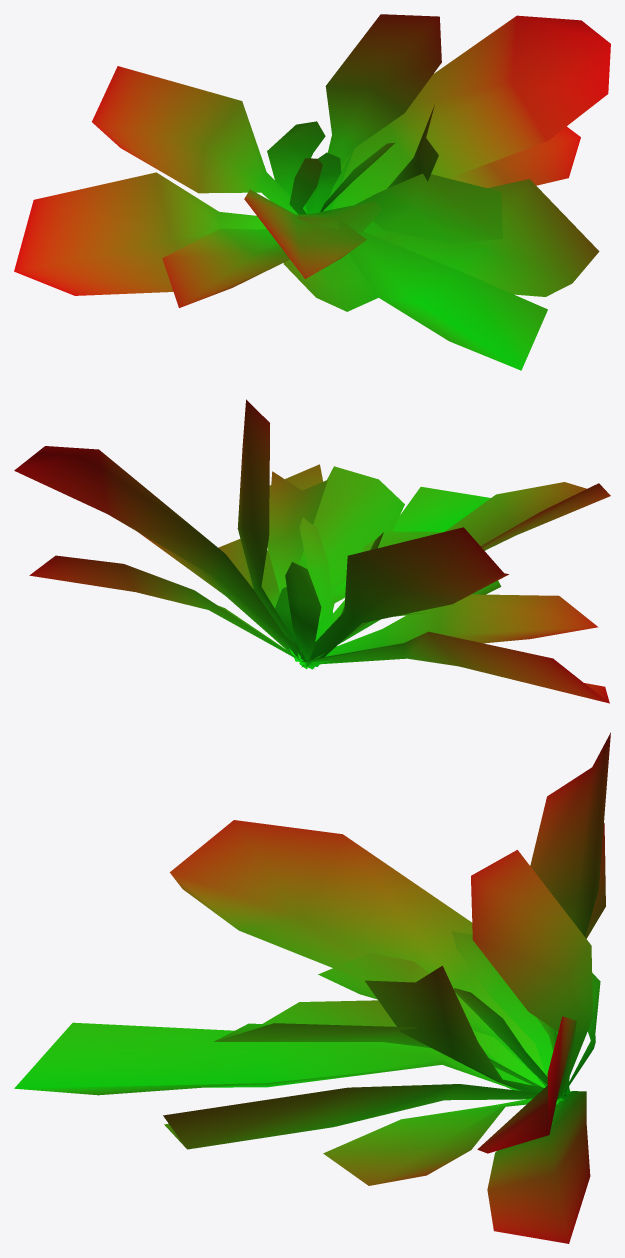
File: Var22_LOD1.fbx
3 views of the same model, one above another, from view 1: azimuth 30°, elevation 25°; view 2: azimuth 150°, elevation 25°; view 3: azimuth 270°, elevation 25° (orthographic). The views are drawn at different scales.
Parts seen in each view (by area): view 1: _c8ps_Var22_LOD1; view 2: _c8ps_Var22_LOD1; view 3: _c8ps_Var22_LOD1.
Part boxes in pixels (x1,y1,x2,y2): _c8ps_Var22_LOD1: [14, 14, 610, 370]; _c8ps_Var22_LOD1: [14, 399, 610, 703]; _c8ps_Var22_LOD1: [14, 732, 610, 1243].
Size of the model in its own units: 22.09 by 7.91 by 14.53.
